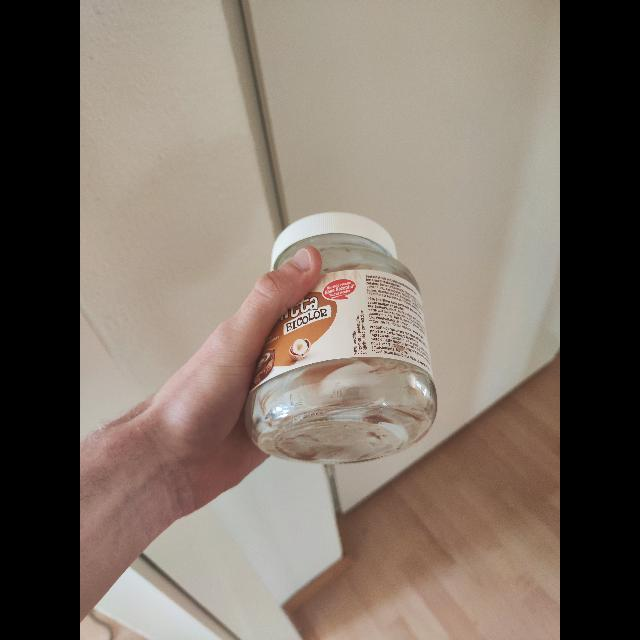Glass: (245, 238, 429, 466)
Plastic: (268, 207, 396, 251)
